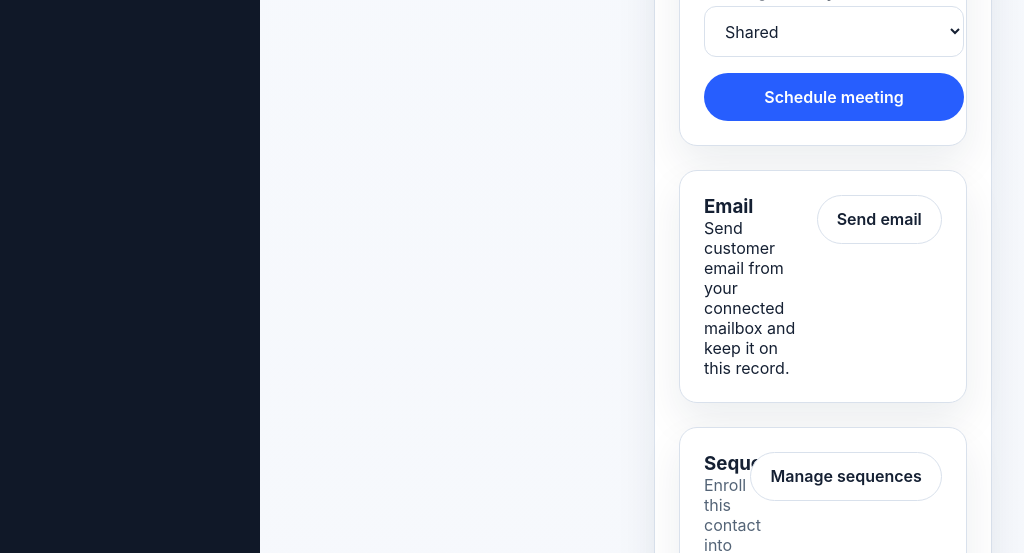
contact email flow › opens the composer, applies a template, and sends an email
The width and height of the screenshot is (1024, 553).
(page scrolled)
Click the button "Send email" at (879, 219), box top-left (816, 195), bottom-right (942, 244)
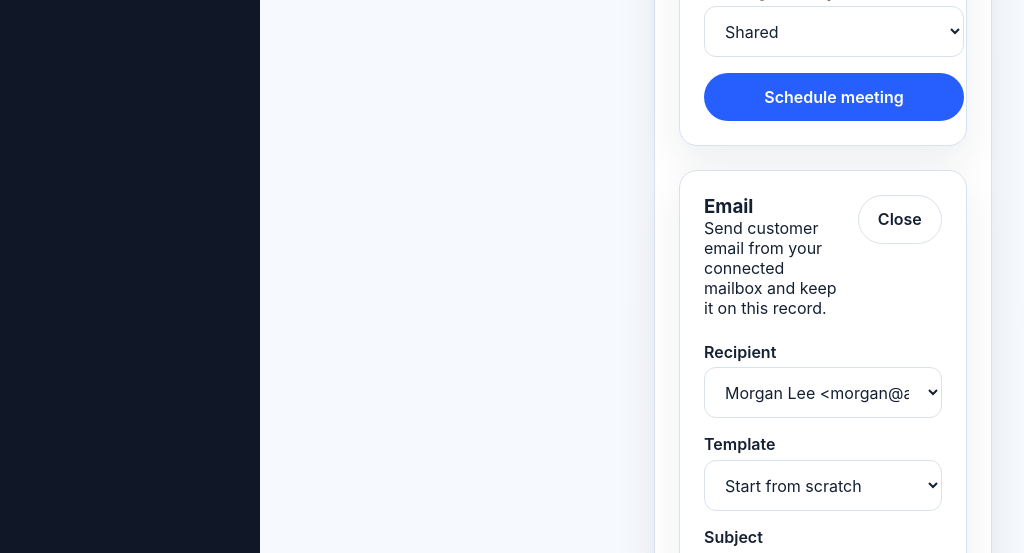
Template dropdown appears after lazy load
Select "Intro" in the dropdown labelled "Template" at (823, 486), box top-left (704, 460), bottom-right (942, 511)
(page scrolled)
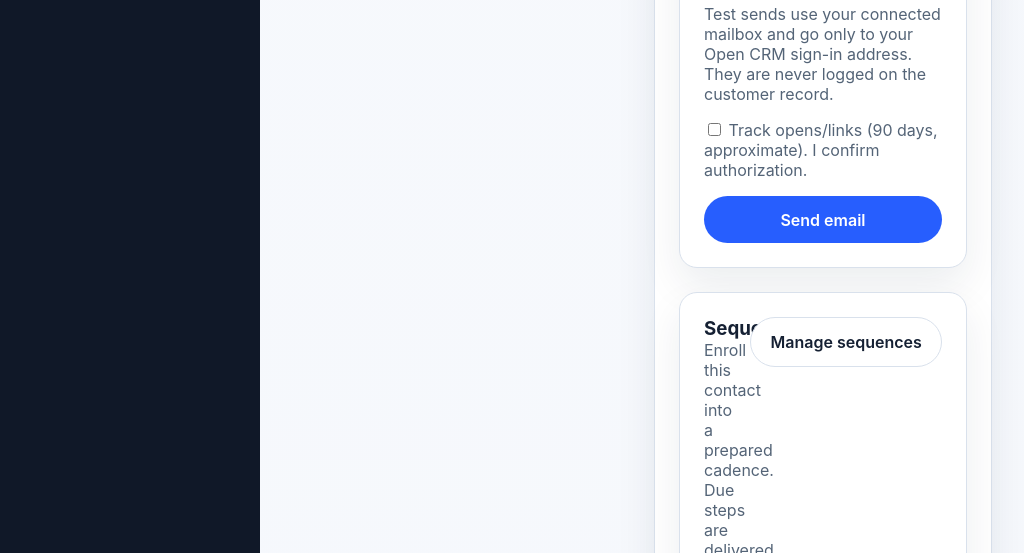
Result: the checkbox labelled "Track opens/links" is not checked at top-left (708, 123), bottom-right (721, 136)
Click the button "Send email" at (823, 220), box top-left (704, 196), bottom-right (942, 243)
(page scrolled)
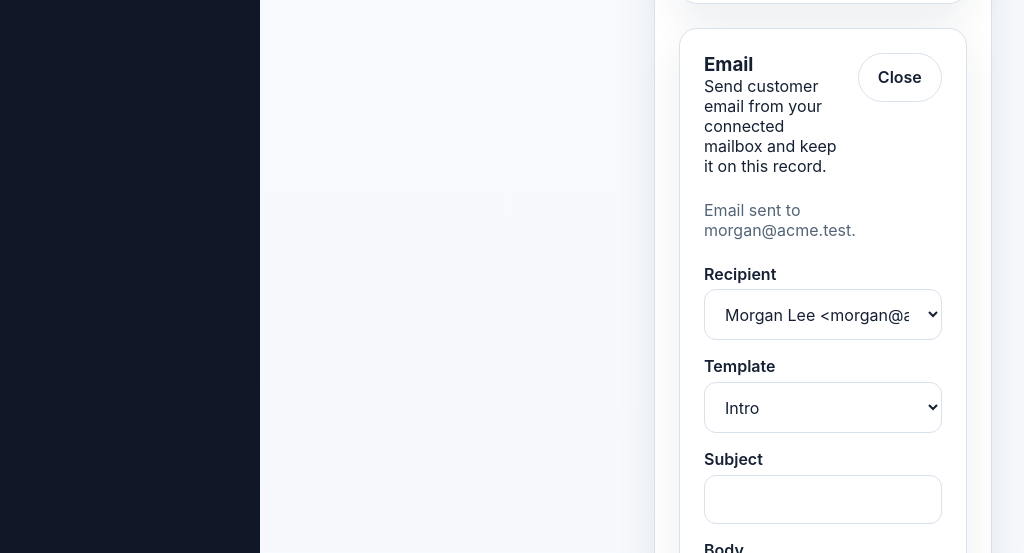
Result: the text "Email sent to morgan@acme.test." is shown at top-left (704, 200), bottom-right (856, 240)
